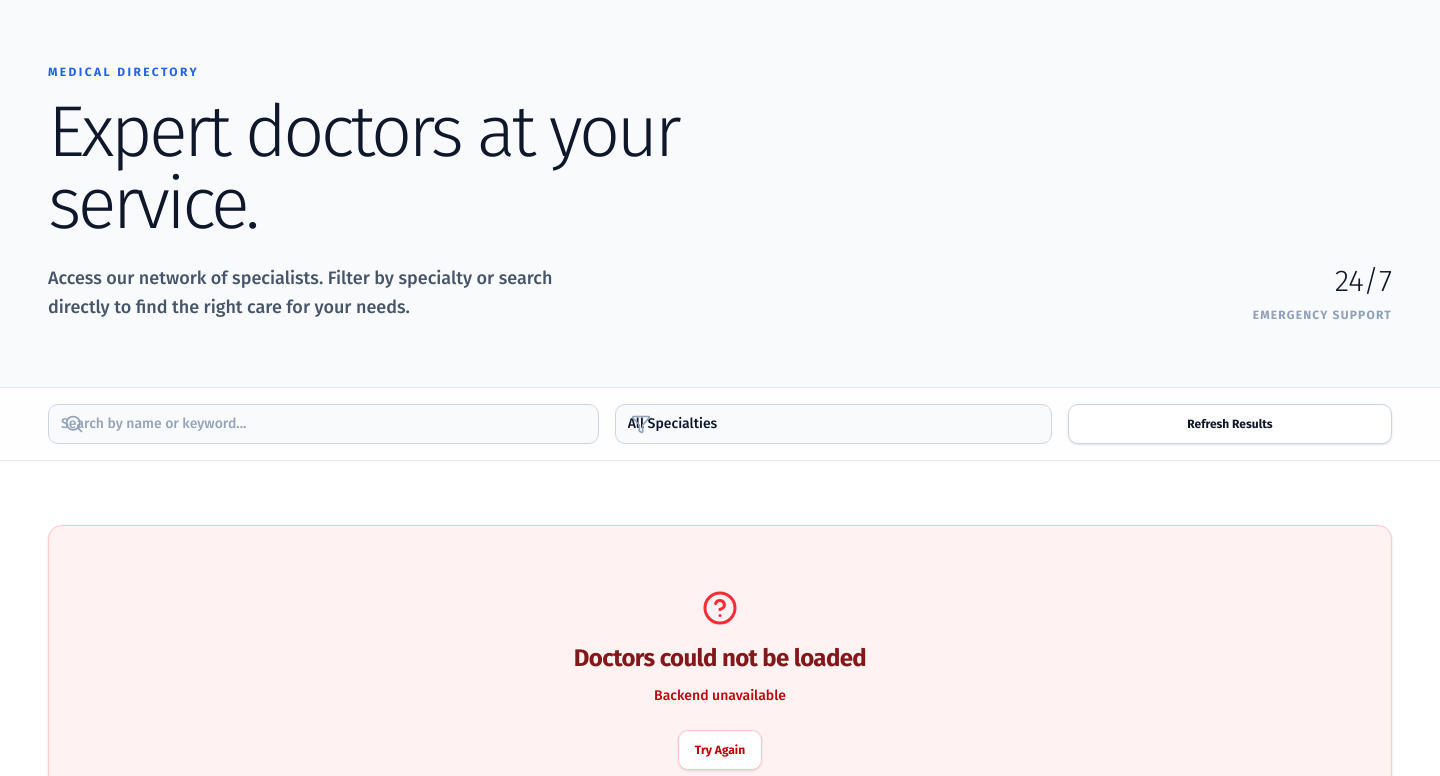
Test: PublicDoctorsPage › shows API errors and retries without falling back to static doctors
This screenshot has width=1440, height=776.
expect the message shows "Backend unavailable": met, box [654,686,786,704]
Click the button "Try Again": (720, 750) [678,730,762,770]
(page scrolled)
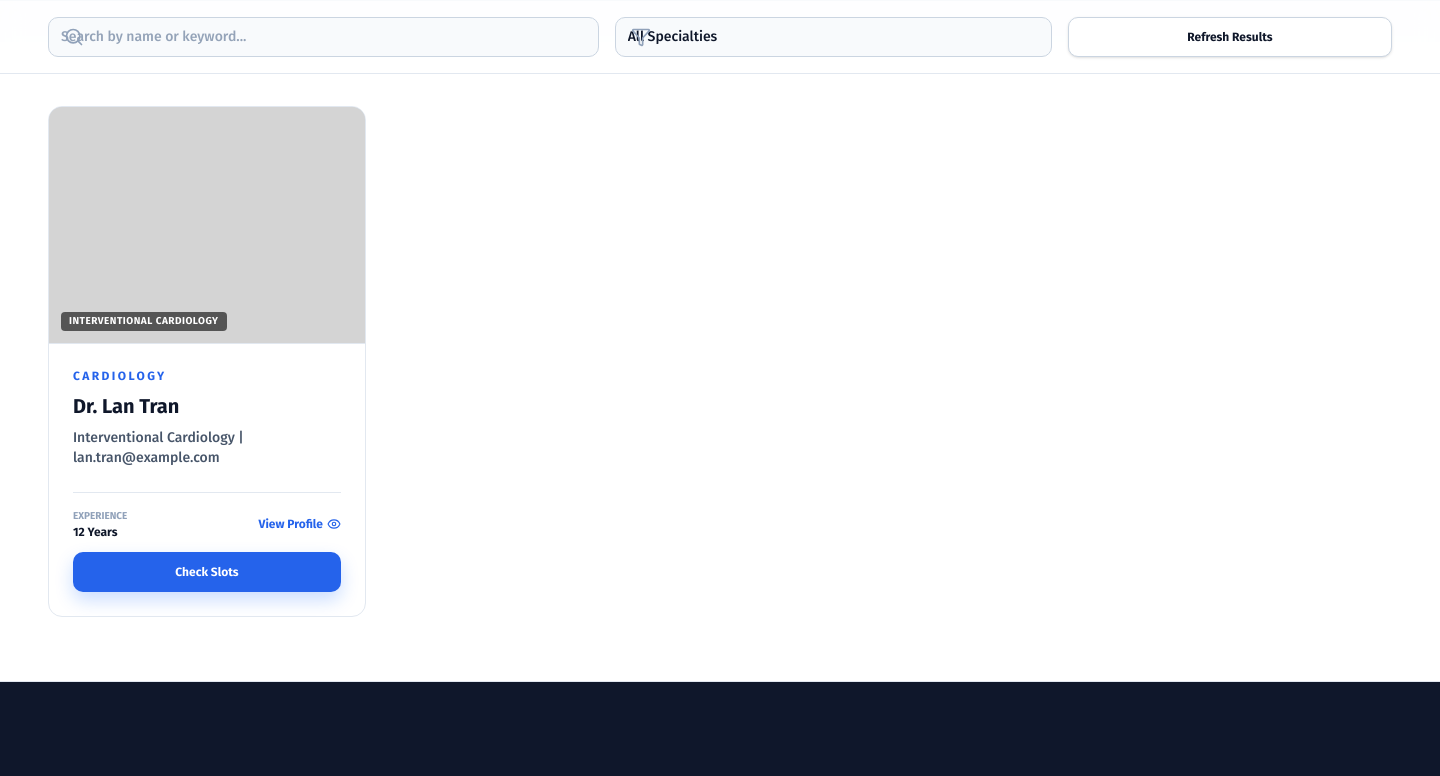
expect the heading "Dr. Lan Tran" is shown: met, box [73,394,179,418]
